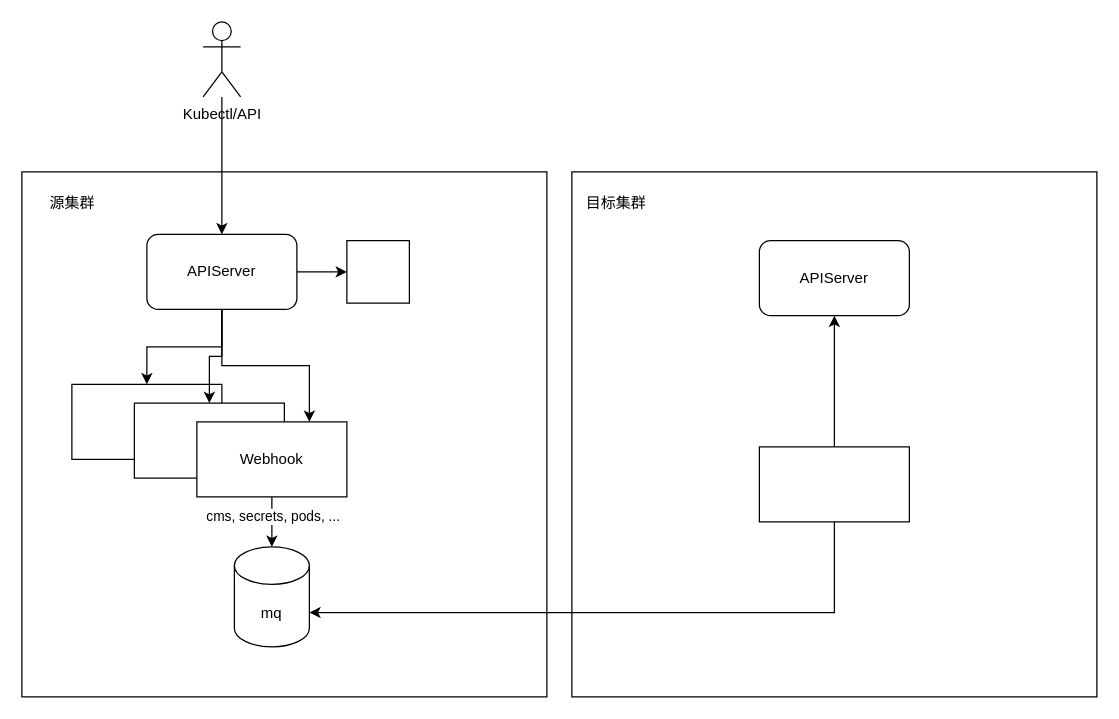
Image size: 1119x719. Some labels were removed from this diagram. Each missing label, with the centre of its shape:
"ETCD" goes at (x=377, y=271).
"ys1000" goes at (x=833, y=484).
